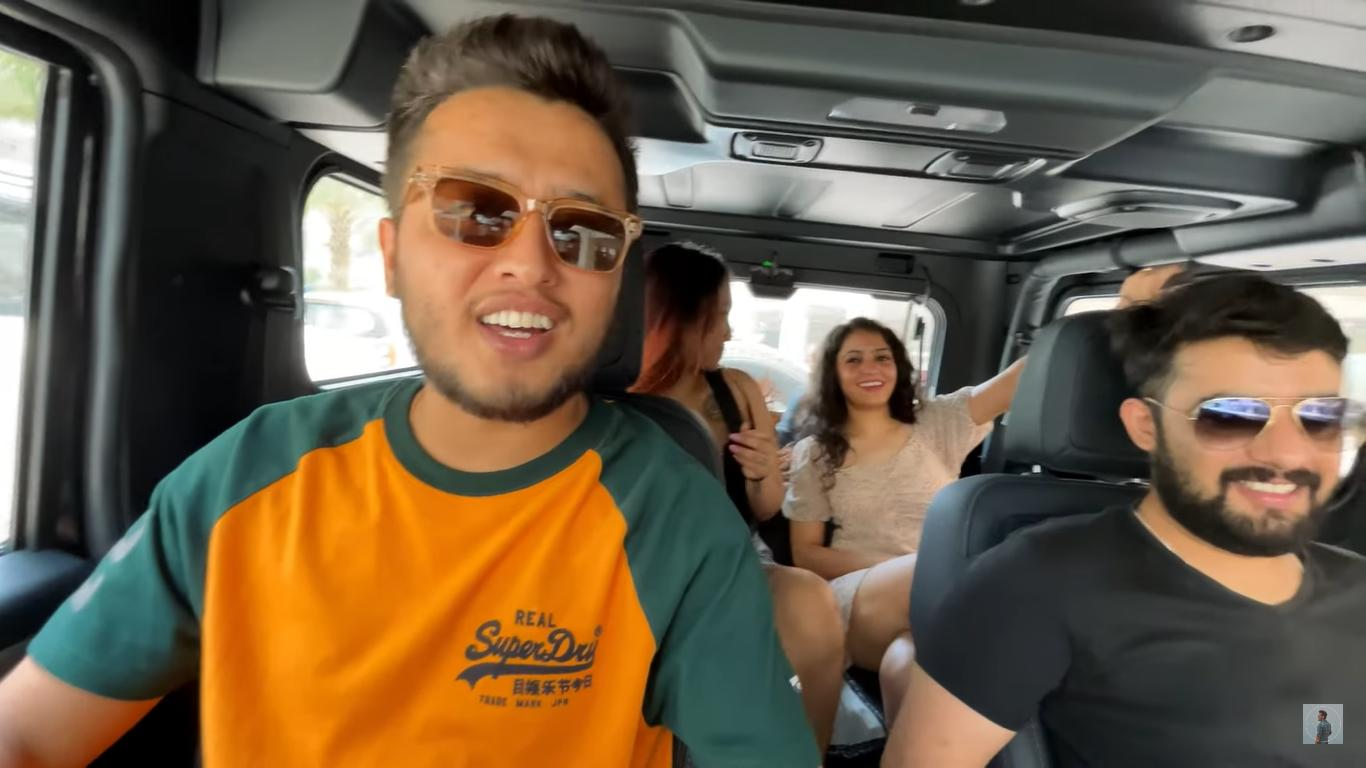no-seatbelt: (260, 412, 651, 768), (1002, 524, 1366, 768), (804, 429, 967, 554)
